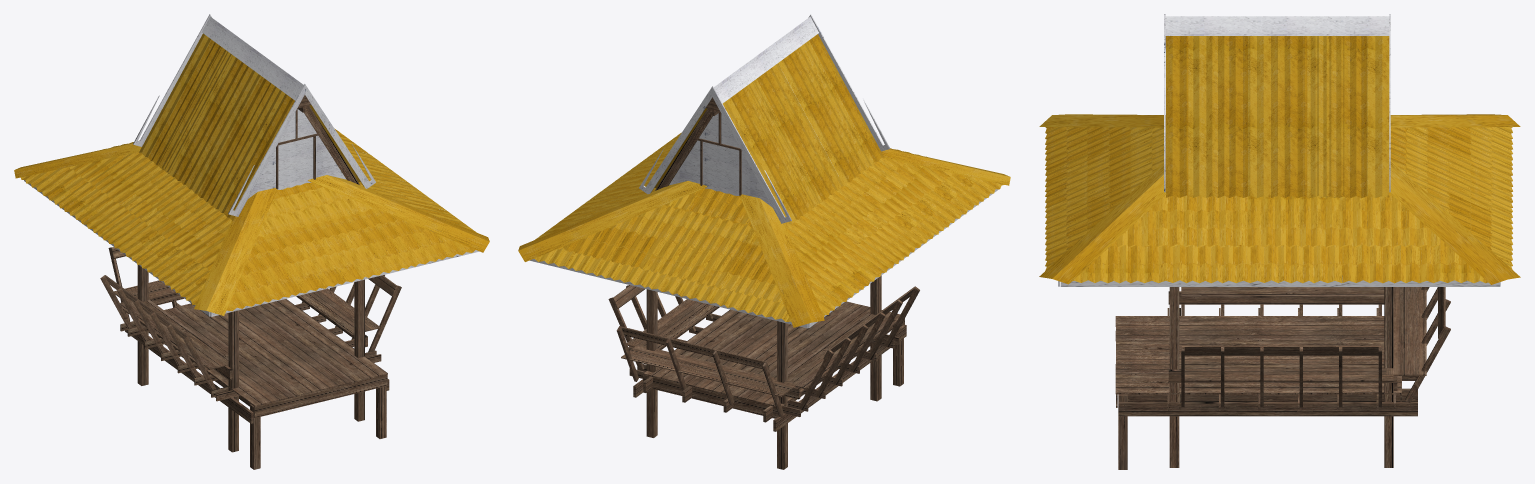
The model's file is pavilionthai.glb.
3 views of the same model, side by side, from view 1: azimuth 30°, elevation 25°; view 2: azimuth 150°, elevation 25°; view 3: azimuth 270°, elevation 25° (orthographic). The views are drawn at different scales.
Parts seen in each view (by area): view 1: object 4, object 2, Line024_04 - Default_0; view 2: object 4, object 2, Line024_04 - Default_0; view 3: object 4, object 2, Line024_04 - Default_0.
Boxes of the visible parts, bbox=[...] form: object 4: bbox=[14, 33, 489, 315]; object 2: bbox=[100, 95, 401, 469]; Line024_04 - Default_0: bbox=[24, 14, 479, 316]; object 4: bbox=[518, 34, 1010, 327]; object 2: bbox=[608, 64, 919, 469]; Line024_04 - Default_0: bbox=[530, 14, 998, 328]; object 4: bbox=[1039, 36, 1520, 284]; object 2: bbox=[1115, 36, 1450, 469]; Line024_04 - Default_0: bbox=[1058, 14, 1500, 286].
Size of the model in its own units: 1.37 by 1.57 by 1.63.
Materials: 4 (4 with a texture image).
